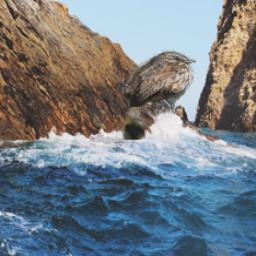Sparrow: (121, 50, 195, 141)
